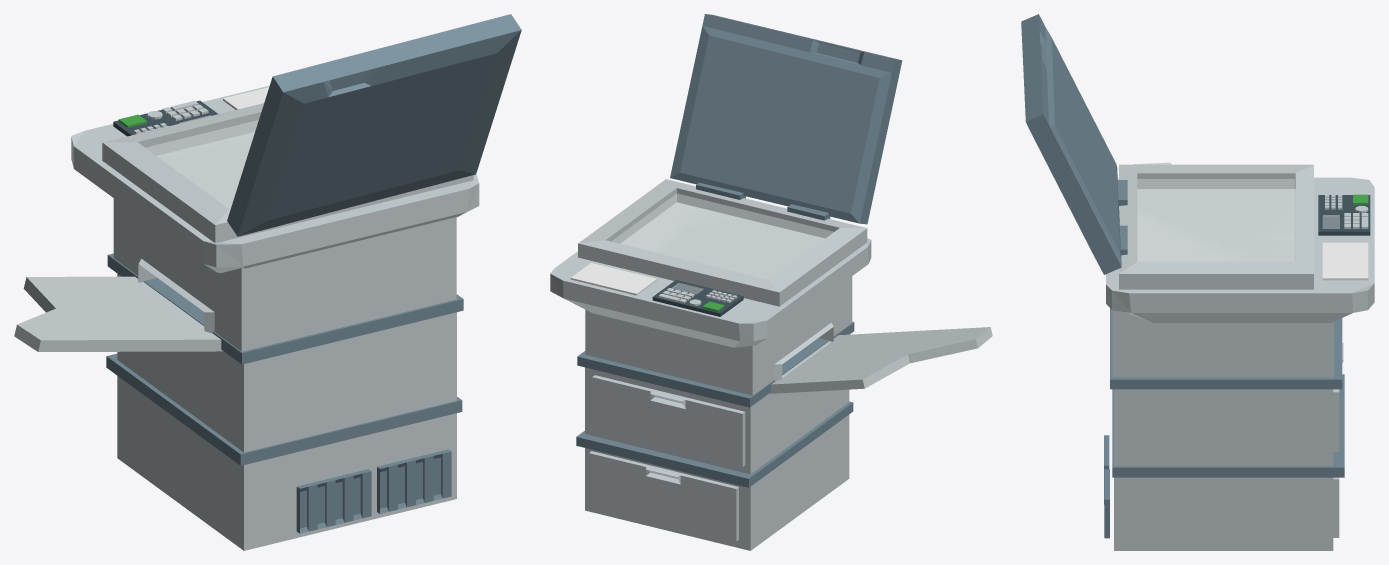
Rendered from printer.glb.
3 renders of one model, left to right at view 1: azimuth 30°, elevation 25°; view 2: azimuth 150°, elevation 25°; view 3: azimuth 270°, elevation 25°, orthographic. The views are drawn at different scales.
Parts seen in each view (by area): view 1: Node; view 2: Node; view 3: Node.
Part boxes in pixels (x1,y1,x2,y2): Node: (14,14,521,550); Node: (550,14,992,550); Node: (1021,14,1374,550).
Size of the model in its own units: 2.02 by 2.25 by 1.63.
2 materials, 2 textured.
